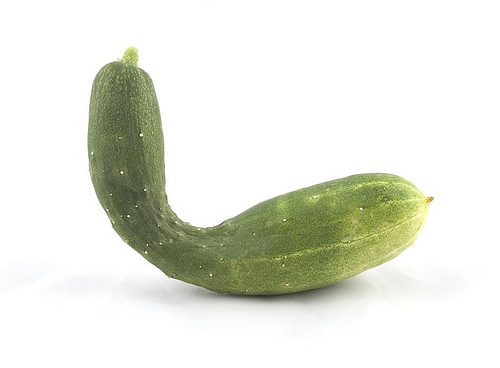cucumber: (87, 46, 433, 297)
